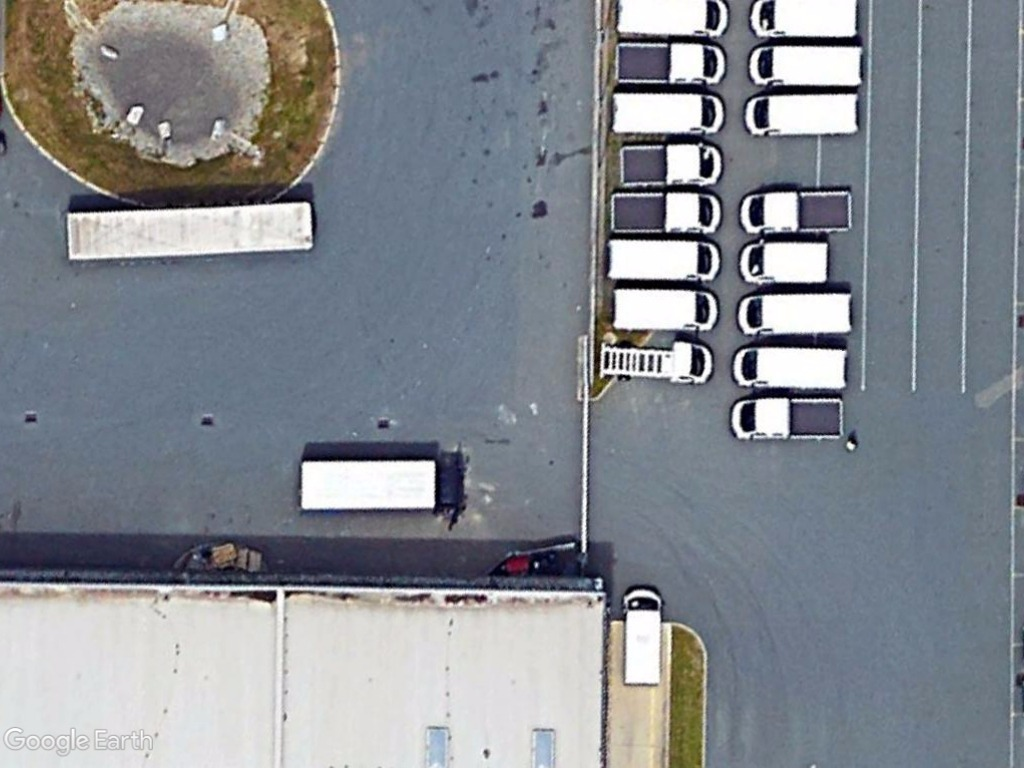longvehicle: (56, 192, 319, 268)
others: (603, 183, 727, 239), (736, 183, 857, 239), (609, 36, 730, 89), (726, 392, 850, 443), (614, 135, 727, 189)
truck: (296, 451, 470, 516)
van: (601, 83, 730, 141), (599, 229, 726, 286), (737, 86, 869, 140), (743, 37, 869, 93), (606, 281, 723, 340), (733, 287, 860, 341), (727, 343, 856, 392), (620, 582, 670, 692), (734, 235, 834, 289)
